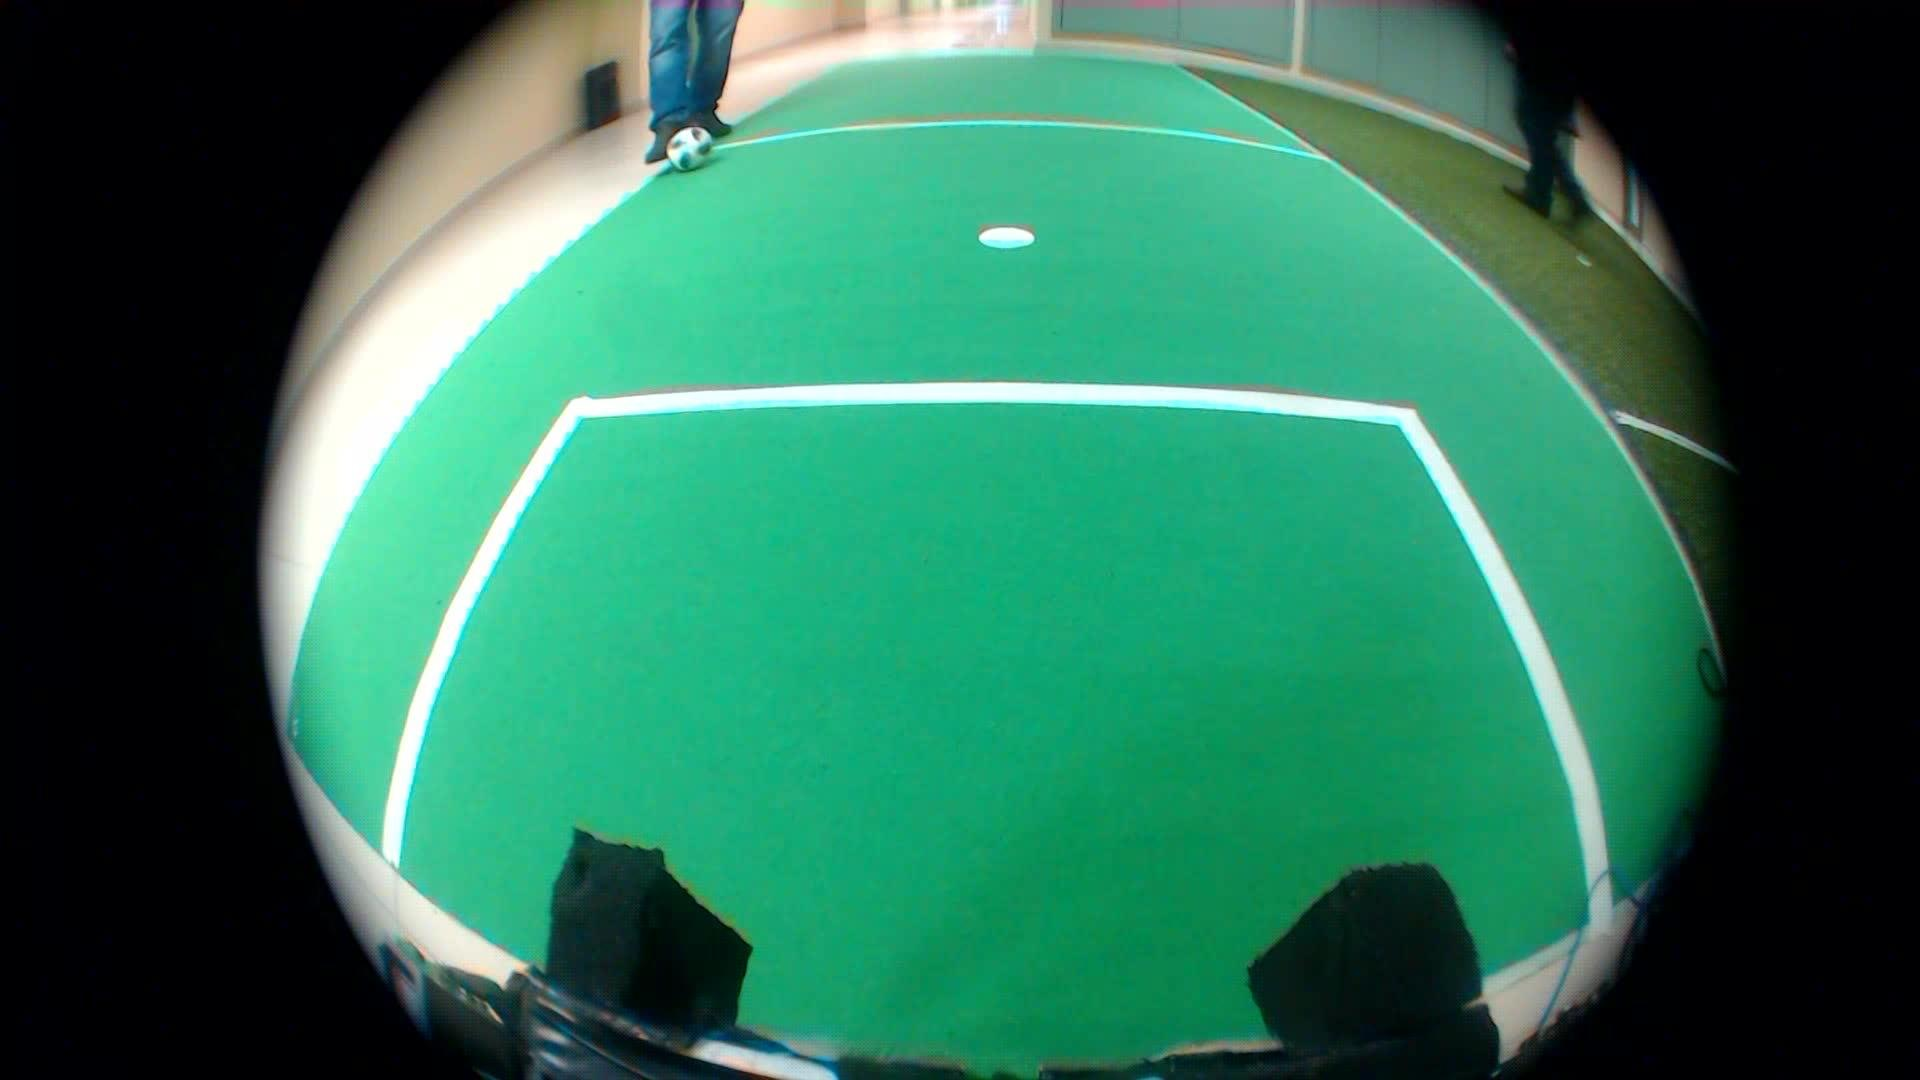ball: (657, 121, 720, 183)
